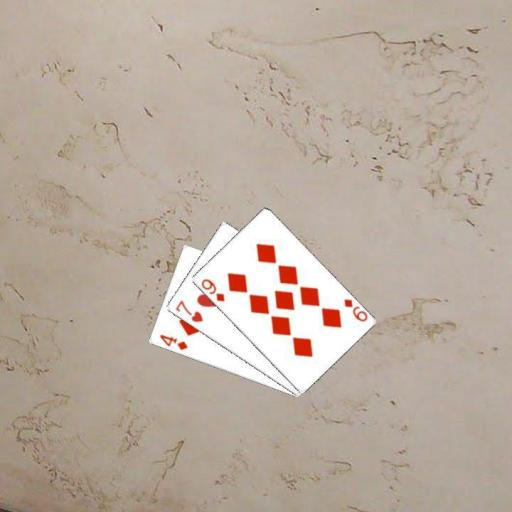card-corner: (172, 297, 204, 324), (198, 276, 226, 303), (341, 296, 368, 323), (157, 331, 189, 352)
